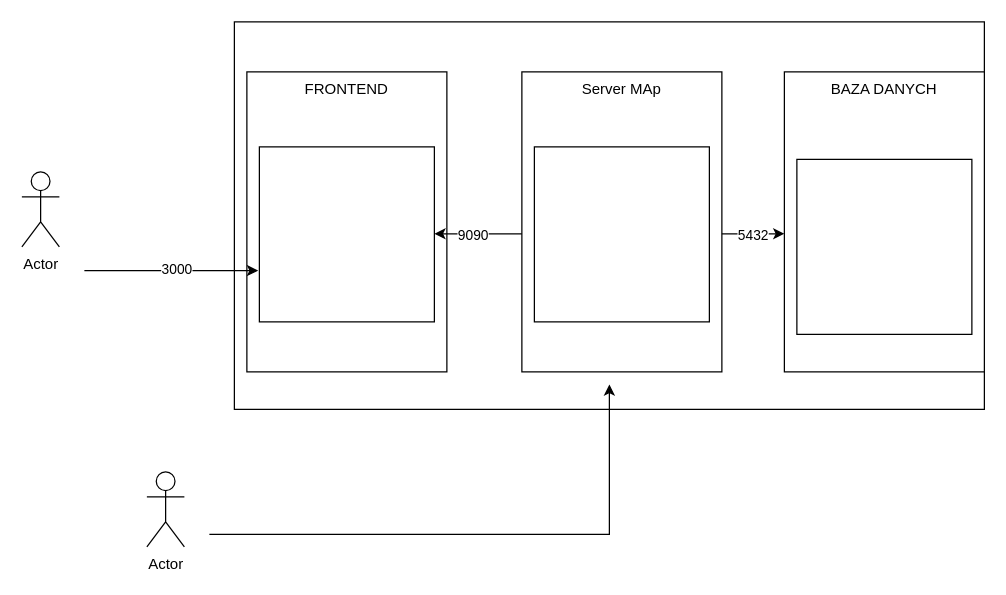
The diagram is 1006 pixels wide and 595 high, and some of its shapes have lost their labels. Here are the shapes that lost their labels. From the top down, the centre of each, then its label:
the point at 346,234: RejactJS
the point at 621,234: Geoserwer
the point at 884,246: PostGIS
